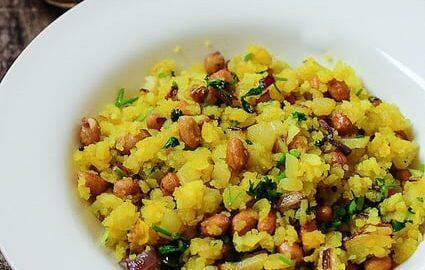poha: (72, 52, 425, 270)
